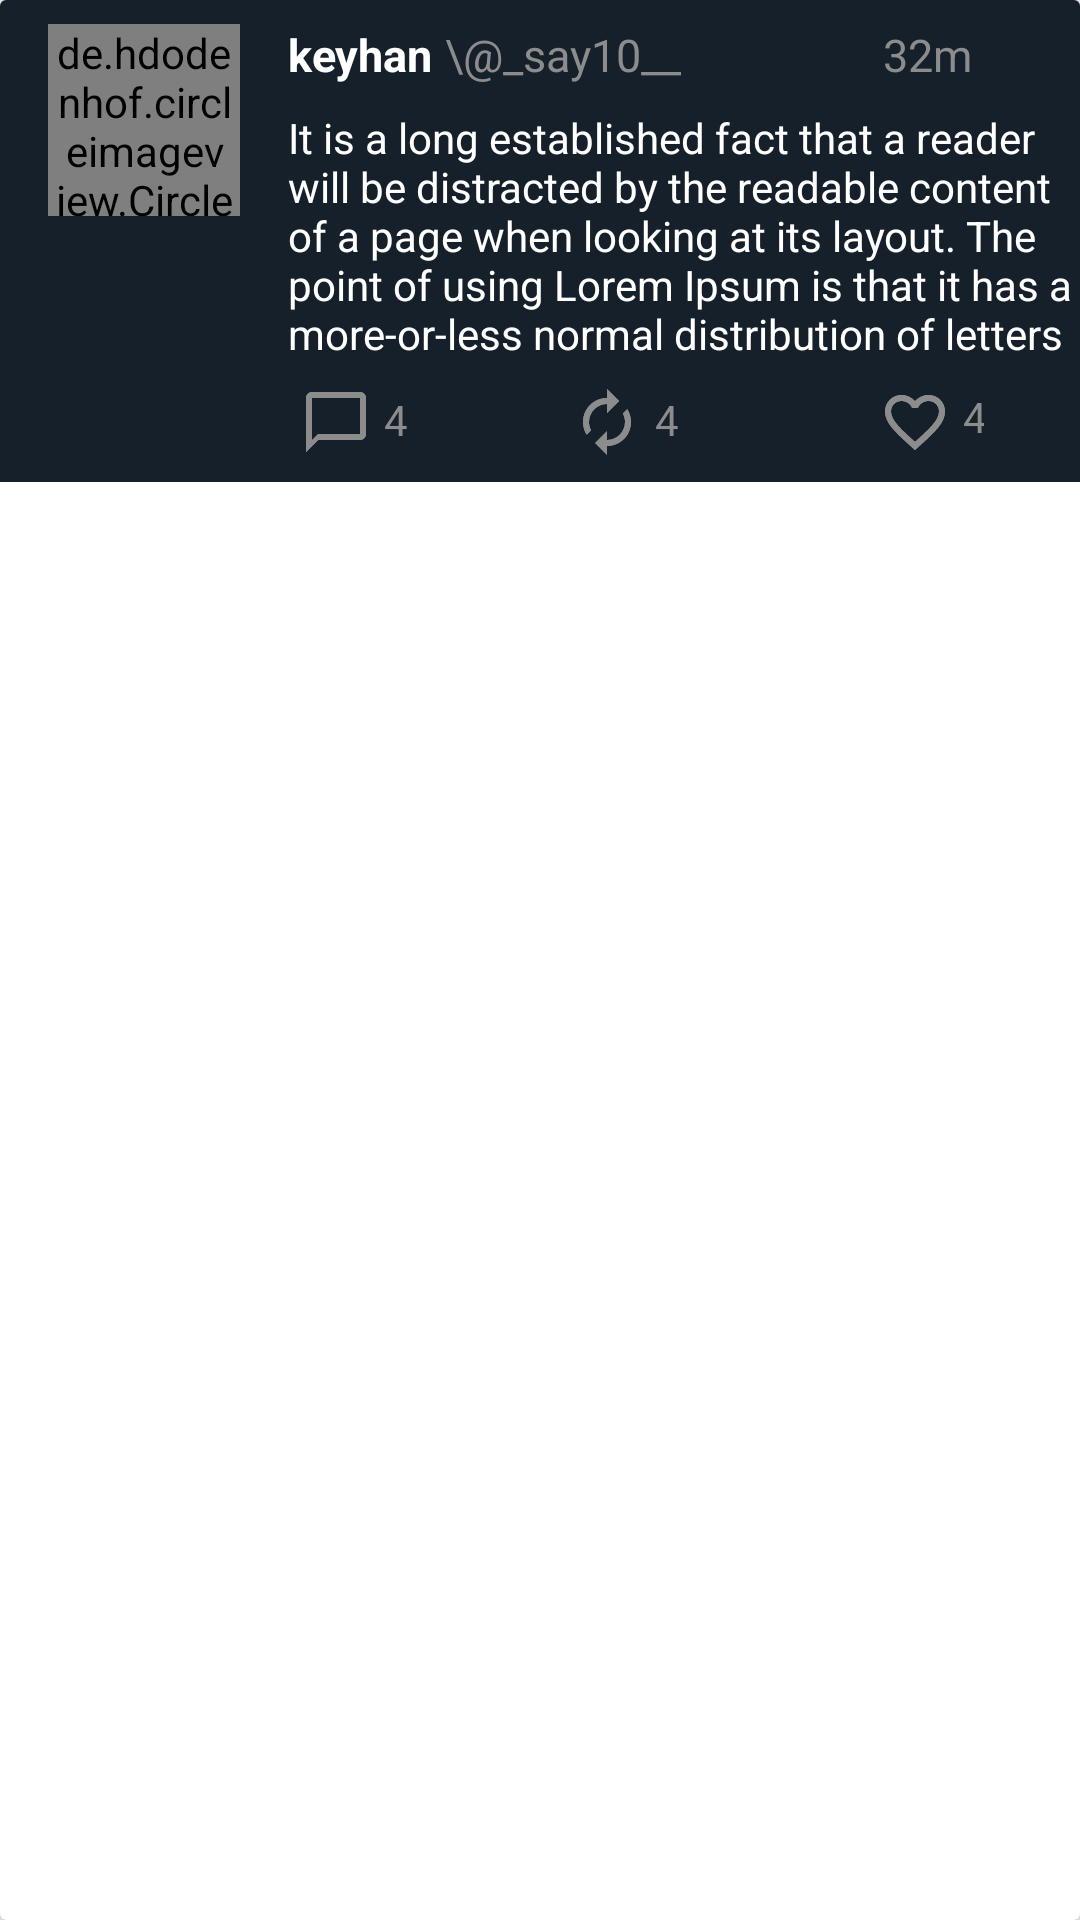

Where icons sit on this 1080w x 1920h app screen, as (x1, y1, x2, y2):
favorite: (885, 395, 945, 450)
renew: (583, 389, 631, 455)
